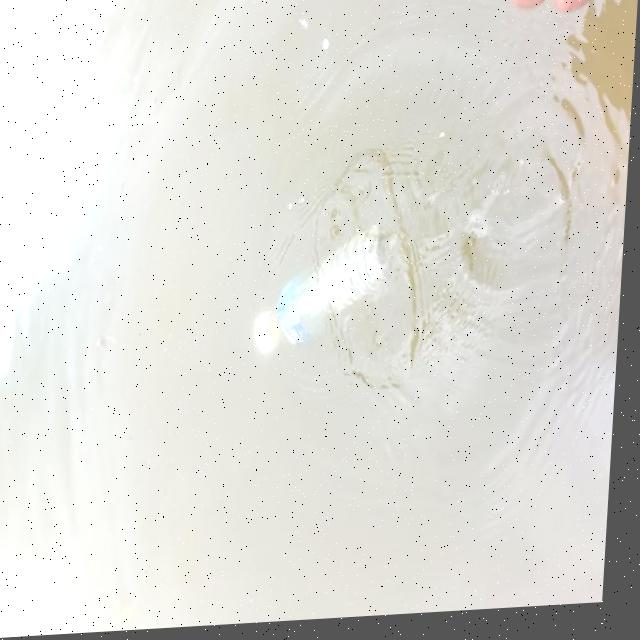waterbottle: (231, 227, 415, 361)
